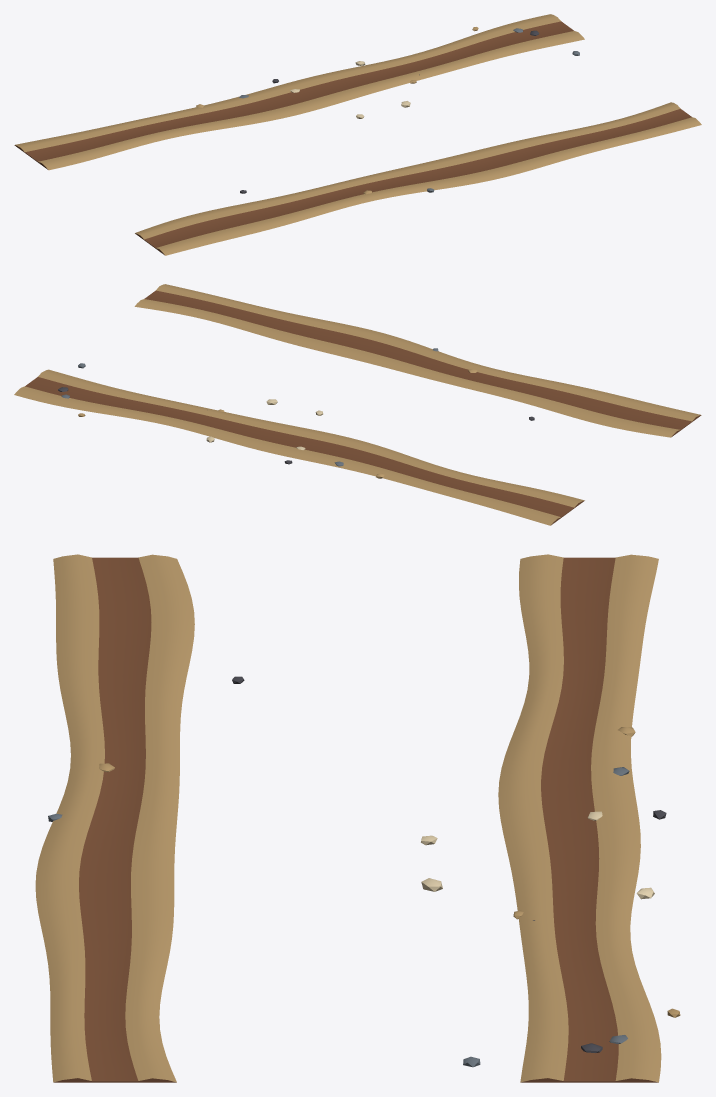
The model's file is deco_decal_cart_tracks.fbx.
3 views of the same model, one above another, from view 1: azimuth 30°, elevation 25°; view 2: azimuth 150°, elevation 25°; view 3: azimuth 270°, elevation 25° (orthographic). The views are drawn at different scales.
Visible parts, largest first — view 1: Decal_CartTracks_Ruts, Decal_CartTracks_Pebbles; view 2: Decal_CartTracks_Ruts, Decal_CartTracks_Pebbles; view 3: Decal_CartTracks_Ruts, Decal_CartTracks_Pebbles.
Boxes of the visible parts, x1,y1,x2,y2 form: Decal_CartTracks_Ruts: (14,14,701,255); Decal_CartTracks_Pebbles: (196,27,579,194); Decal_CartTracks_Ruts: (14,284,701,525); Decal_CartTracks_Pebbles: (58,348,534,478); Decal_CartTracks_Ruts: (35,554,661,1082); Decal_CartTracks_Pebbles: (48,676,680,1067).
Size of the model in its own units: 400 by 3.04 by 208.
